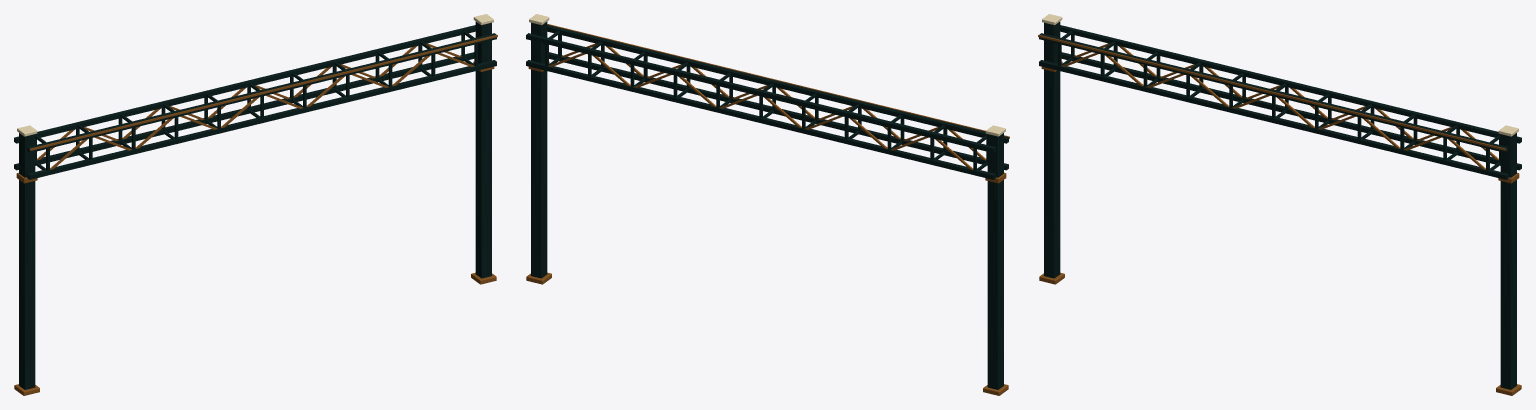
The model's file is highway-gantry.glb.
3 renders of one model, left to right at view 1: azimuth 30°, elevation 25°; view 2: azimuth 150°, elevation 25°; view 3: azimuth 330°, elevation 25°, orthographic.
Visible parts, largest first — view 1: GantryPostL, GantryPostR, Chord7.07_0.38, Chord7.93_-0.38, Chord7.93_0.38, Chord7.07_-0.38, FasciaBand; view 2: GantryPostL, GantryPostR, Chord7.93_-0.38, Chord7.07_-0.38, Chord7.93_0.38, Chord7.07_0.38, FasciaBand; view 3: GantryPostR, GantryPostL, Chord7.07_0.38, Chord7.93_-0.38, Chord7.93_0.38, Chord7.07_-0.38, FasciaBand.
Part boxes in pixels (x1,y1,x2,y2): GantryPostL: (19, 133, 35, 389); GantryPostR: (475, 21, 491, 278); Chord7.07_0.38: (27, 60, 496, 179); Chord7.93_-0.38: (14, 25, 475, 143); Chord7.93_0.38: (27, 33, 496, 153); Chord7.07_-0.38: (14, 52, 474, 170); FasciaBand: (29, 34, 497, 150); GantryPostL: (987, 133, 1003, 389); GantryPostR: (531, 21, 547, 278); Chord7.93_-0.38: (526, 33, 995, 152); Chord7.07_-0.38: (526, 60, 995, 179); Chord7.93_0.38: (547, 25, 1008, 143); Chord7.07_0.38: (549, 52, 1008, 170); FasciaBand: (547, 24, 1009, 138); GantryPostR: (1500, 133, 1516, 389); GantryPostL: (1044, 21, 1060, 278); Chord7.07_0.38: (1039, 60, 1508, 179); Chord7.93_-0.38: (1060, 25, 1521, 143); Chord7.93_0.38: (1039, 33, 1508, 153); Chord7.07_-0.38: (1061, 52, 1521, 170); FasciaBand: (1038, 34, 1506, 150).
Size of the model in its own units: 15.92 by 8.4 by 0.95.
3 materials, 3 textured.
